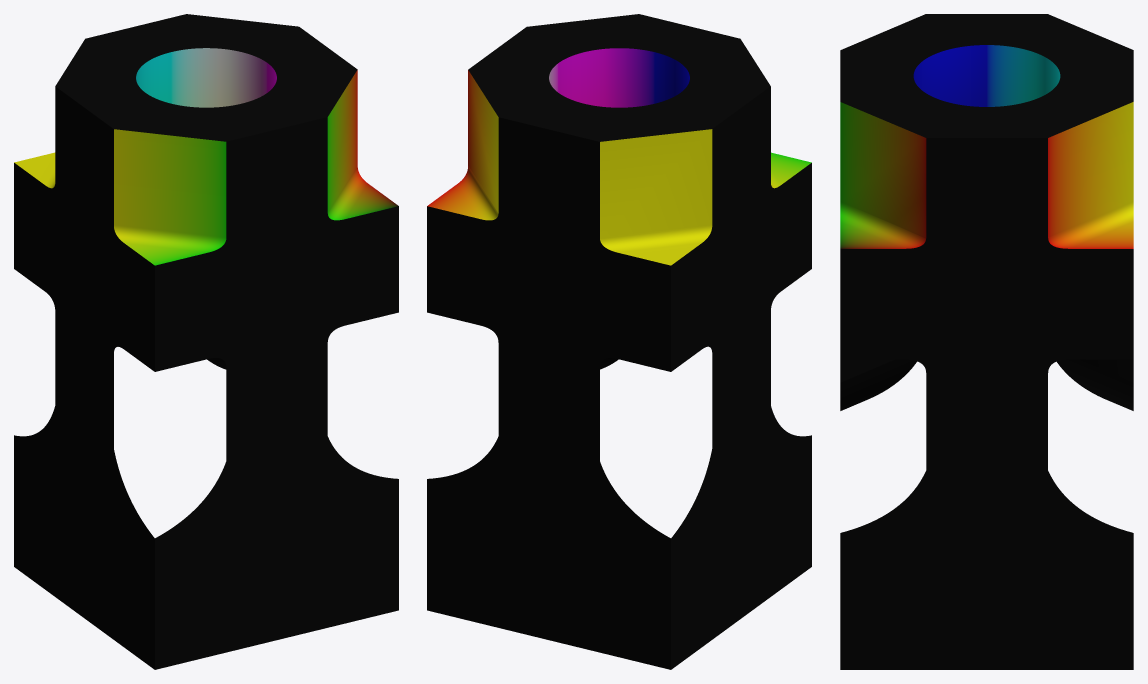
Rendered from Cross Shape Vase 6 x 12.glb.
3 renders of one model, left to right at view 1: azimuth 30°, elevation 25°; view 2: azimuth 150°, elevation 25°; view 3: azimuth 270°, elevation 25°, orthographic. The views are drawn at different scales.
Visible parts, largest first — view 1: Box004; view 2: Box004; view 3: Box004.
Part boxes in pixels (left/top/right/bottom): Box004: left=14, top=14, right=398, bottom=669; Box004: left=427, top=14, right=811, bottom=669; Box004: left=840, top=14, right=1133, bottom=669.
Bounding box in the file's own units: 0.1524 × 0.3048 × 0.1524.
